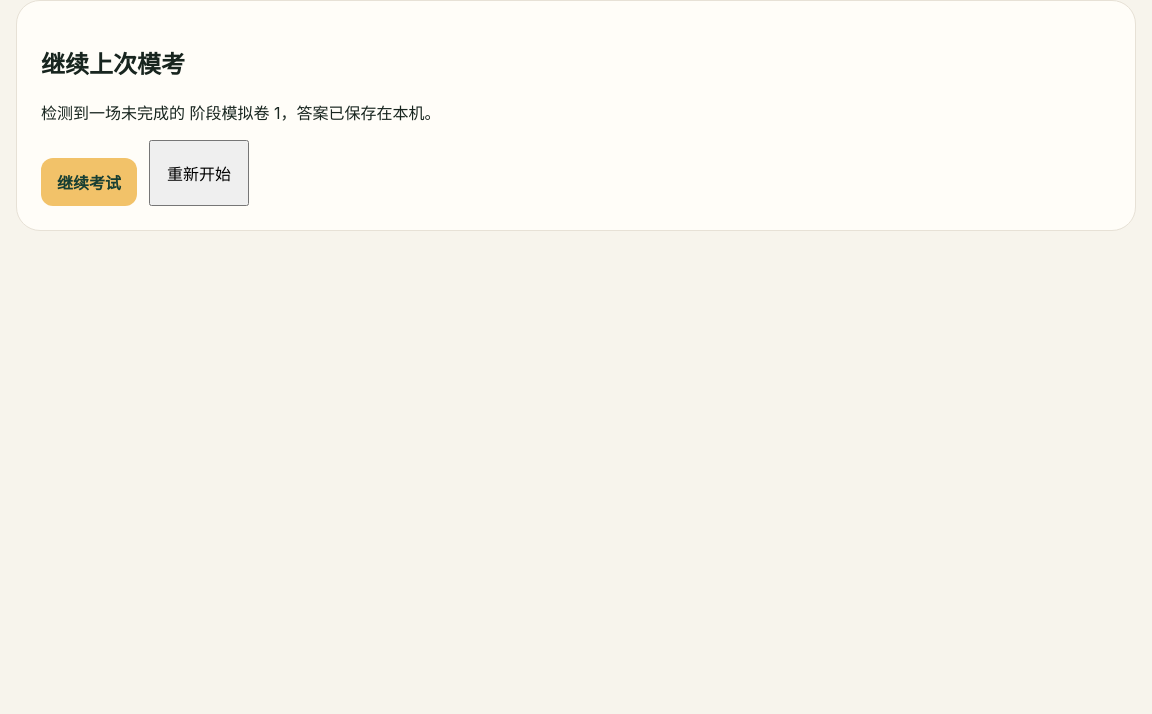
it: ExamSession › restores a played listening group without allowing another playback
Click the button "继续考试" at (89, 182), box x1=41 y1=158 x2=137 y2=206
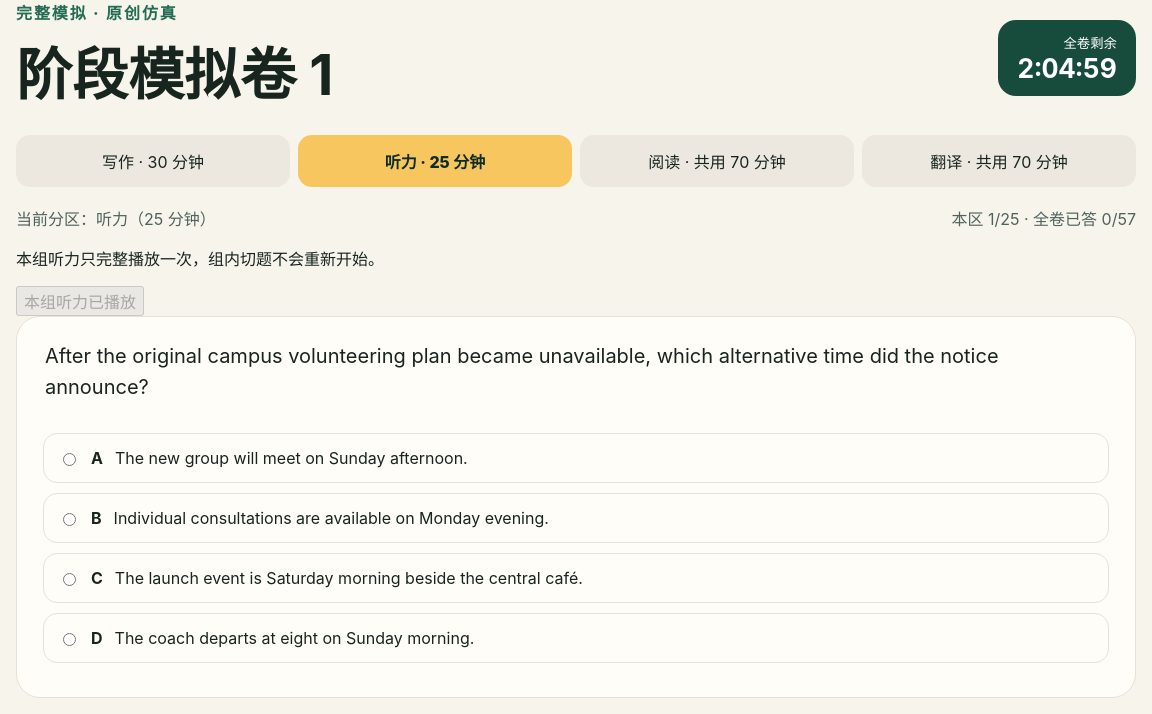
Expected: the button "本组听力已播放" is disabled, x1=16 y1=286 x2=144 y2=316
